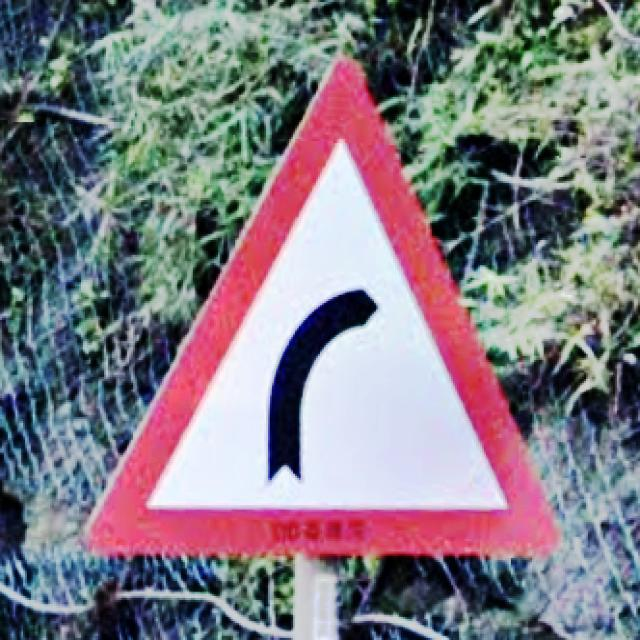rightbend: (85, 59, 559, 558)
